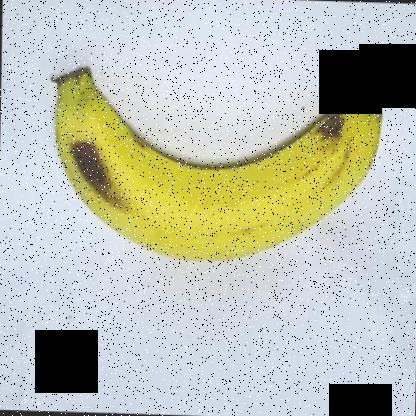freshripe: (45, 53, 393, 280)
